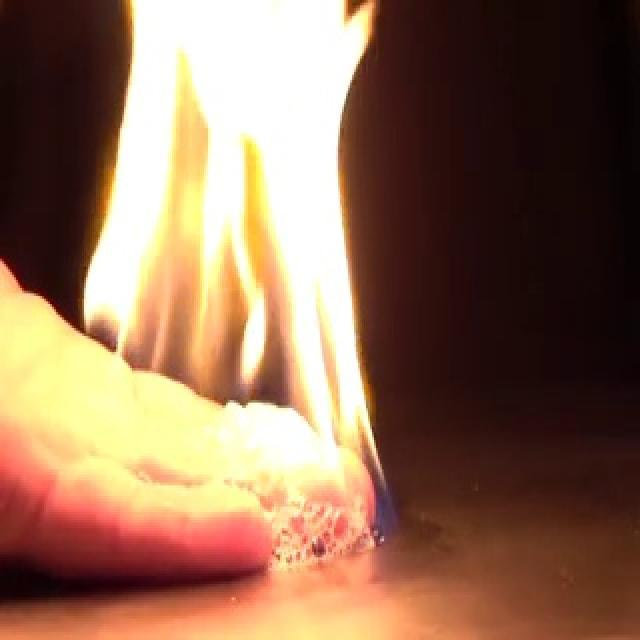fire: (78, 2, 384, 550)
